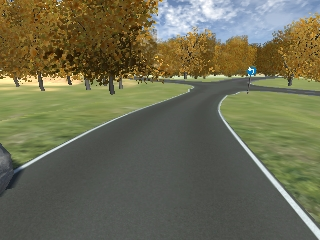left: (246, 67, 256, 75)
